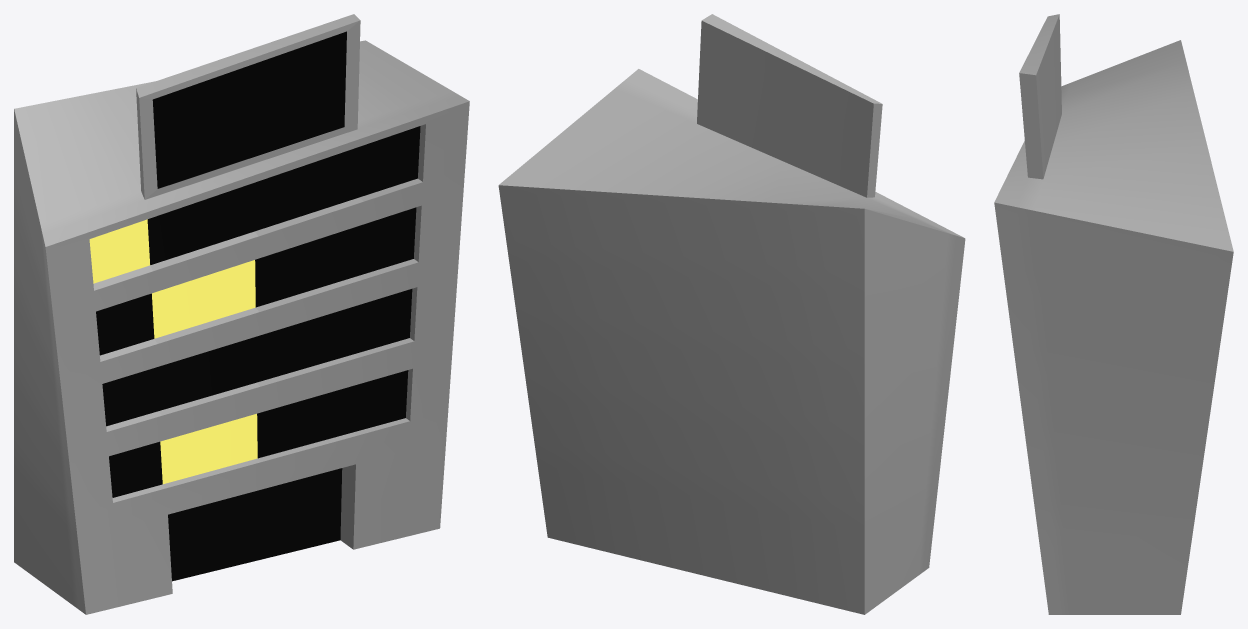
File: Building04.fbx
The picture shows the model from 3 angles, left to right: view 1: azimuth 30°, elevation 25°; view 2: azimuth 150°, elevation 25°; view 3: azimuth 270°, elevation 25°; orthographic projection. The views are drawn at different scales.
Visible parts, largest first — view 1: Building04; view 2: Building04; view 3: Building04.
Boxes of the visible parts, x1,y1,x2,y2 form: Building04: (14, 14, 469, 614); Building04: (498, 14, 965, 614); Building04: (994, 14, 1233, 614).
Size of the model in its own units: 813 by 1004 by 437.
2 materials, 1 textured.
